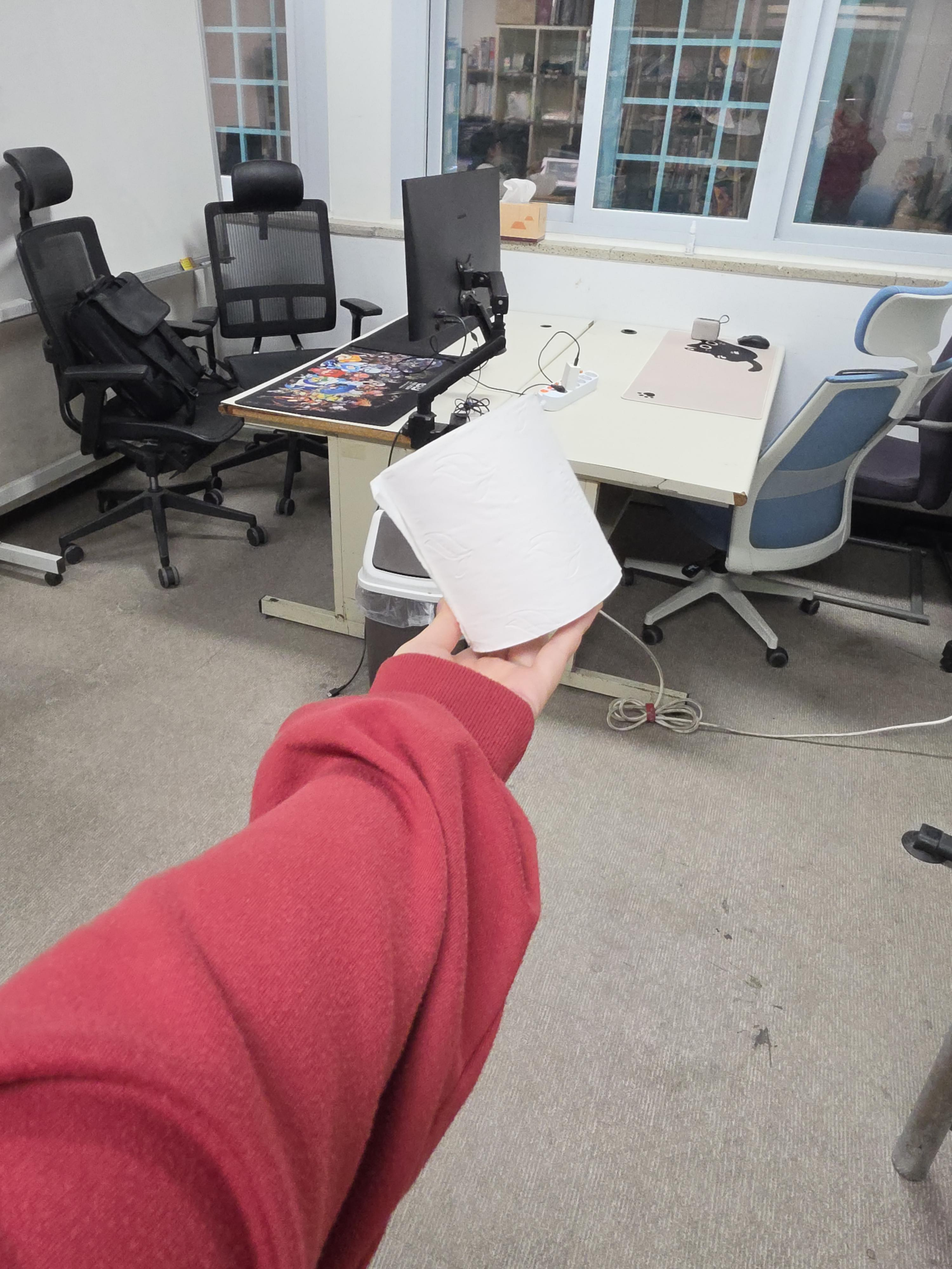tissue: (369, 391, 624, 654), (499, 178, 547, 242)
